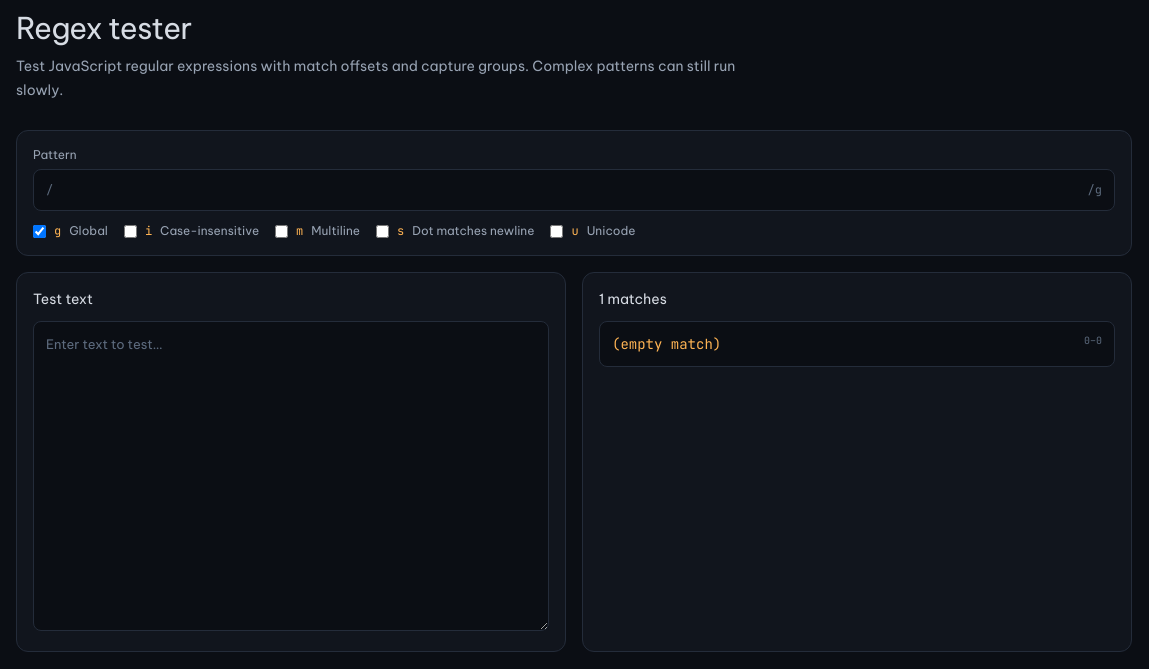
Test case: Regex Tester tool › announces invalid expressions without crashing
Type "(" into the field labelled "Pattern" at point(570, 190), box [53,170,1088,210]
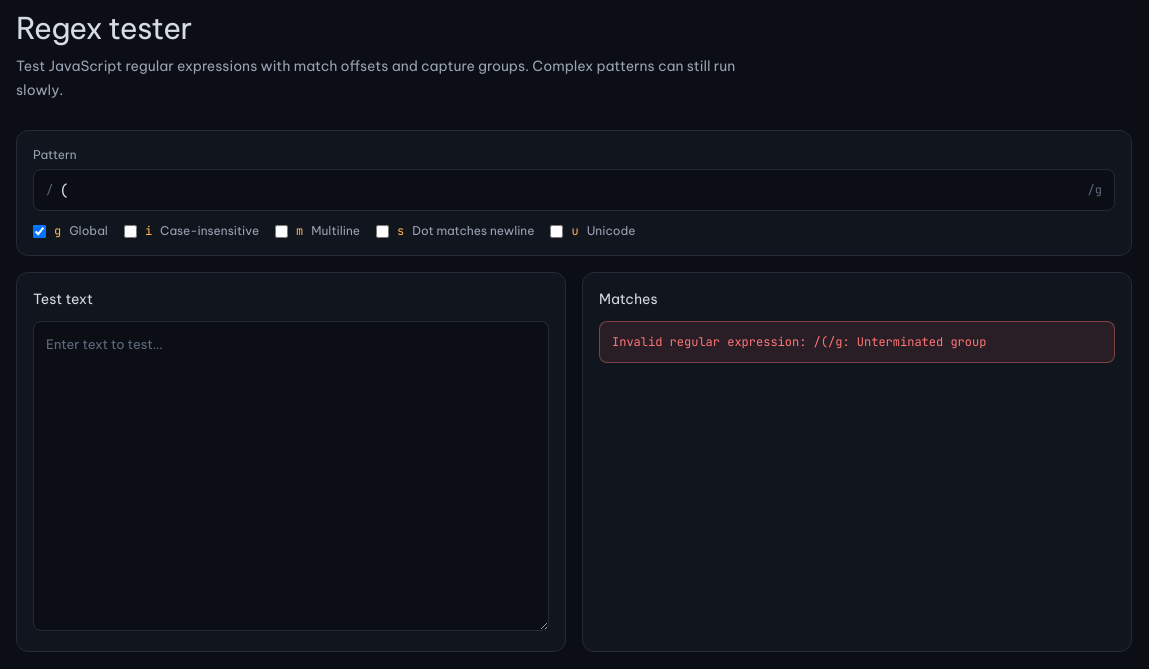
expect the message reads "Invalid regular expression: /(/g: Unterminated group": met, box [612,334,986,350]
